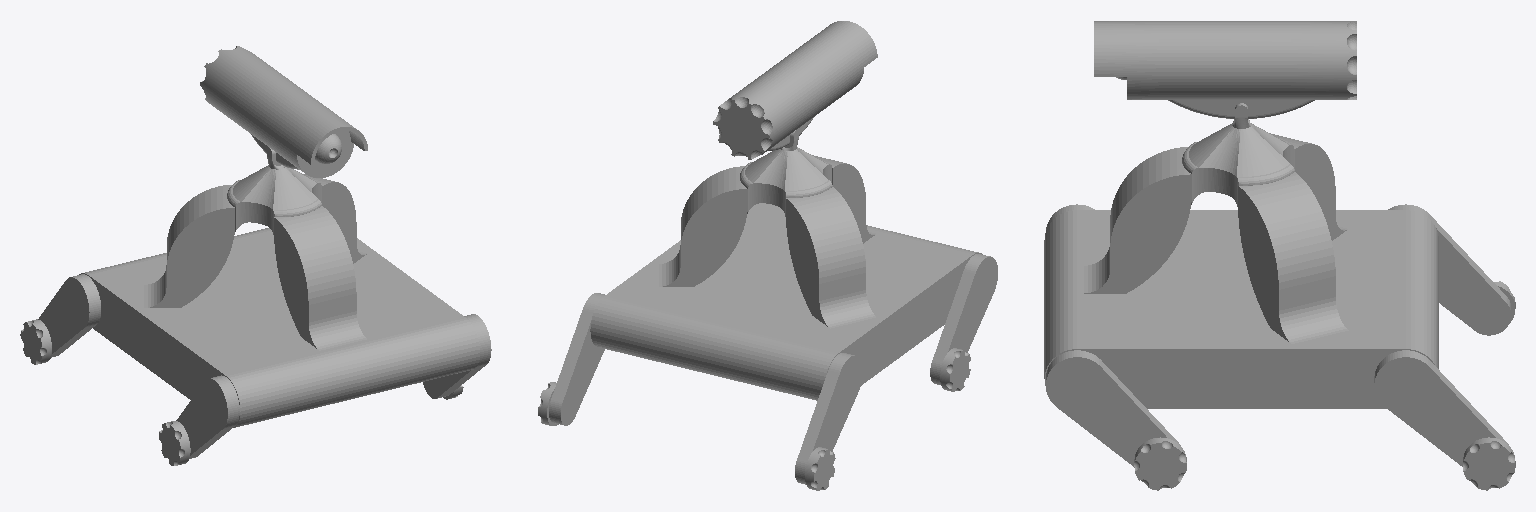
URDF robot description (BLem1):
<?xml version="1.0"?>
<robot name="BLem1">

  <material name="silver">
    <color rgba="0.7 0.7 0.7 1"/>
  </material>

  <link name="base_link">
    <inertial>
      <origin xyz="0.25 0 0.0301" rpy="0 0 0"/>
      <mass value="22"/>
      <inertia ixx="0.6650" iyy="0.5350" izz="0.9570" ixy="0" iyz="0" ixz="0"/>
    </inertial>
    <visual>
      <origin xyz="0 0 0" rpy="0 0 0"/>
      <geometry>
        <mesh filename="../meshes/base_link.stl" scale="0.001 0.001 0.001"/>
      </geometry>
      <material name="silver"/>
    </visual>
    <collision>
      <origin xyz="0 0 0" rpy="0 0 0"/>
      <geometry>
        <mesh filename="../meshes/base_link.stl" scale="0.001 0.001 0.001"/>
      </geometry>
    </collision>
  </link>

  <link name="neck">
    <inertial>
      <origin xyz="0 0 0.0158" rpy="0 0 0"/>
      <mass value="0.2"/>
      <inertia ixx="0.00003" iyy="0.00005" izz="0.00003" ixy="0" iyz="0" ixz="0"/>
    </inertial>
    <visual>
      <origin xyz="-0.25 0 -0.31" rpy="0 0 0"/>
      <geometry>
        <mesh filename="../meshes/neck.stl" scale="0.001 0.001 0.001"/>
      </geometry>
      <material name="silver"/>
    </visual>
    <collision>
      <origin xyz="-0.25 0 -0.31" rpy="0 0 0"/>
      <geometry>
        <mesh filename="../meshes/neck.stl" scale="0.001 0.001 0.001"/>
      </geometry>
    </collision>
  </link>

  <link name="head">
    <inertial>
      <origin xyz="-0.0080 -0.0070 0.0764" rpy="0 0 0"/>
      <mass value="8"/>
      <inertia ixx="0.0930" iyy="0.0150" izz="0.0920" ixy="0" iyz="0.0010" ixz="0"/>
    </inertial>
    <visual>
      <origin xyz="-0.258 0 -0.34" rpy="0 0 0"/>
      <geometry>
        <mesh filename="../meshes/head.stl" scale="0.001 0.001 0.001"/>
      </geometry>
      <material name="silver"/>
    </visual>
    <collision>
      <origin xyz="-0.258 0 -0.34" rpy="0 0 0"/>
      <geometry>
        <mesh filename="../meshes/head.stl" scale="0.001 0.001 0.001"/>
      </geometry>
    </collision>
  </link>

  <link name="leg1">
    <inertial>
      <origin xyz="-0.0125 0.0532 -0.0532" rpy="0 0 0"/>
      <mass value="5"/>
      <inertia ixx="0.0274" iyy="0.0140" izz="0.0140" ixy="0" iyz="0.0109" ixz="0"/>
    </inertial>
    <visual>
      <origin xyz="0 0.25 0" rpy="0 0 0"/>
      <geometry>
        <mesh filename="../meshes/leg1.stl" scale="0.001 0.001 0.001"/>
      </geometry>
      <material name="silver"/>
    </visual>
    <collision>
      <origin xyz="0 0.25 0" rpy="0 0 0"/>
      <geometry>
        <mesh filename="../meshes/leg1.stl" scale="0.001 0.001 0.001"/>
      </geometry>
    </collision>
  </link>

  <link name="leg2">
    <inertial>
      <origin xyz="0.0125 0.0532 -0.0532" rpy="0 0 0"/>
      <mass value="5"/>
      <inertia ixx="0.0274" iyy="0.0140" izz="0.0140" ixy="0" iyz="0.0109" ixz="0"/>
    </inertial>
    <visual>
      <origin xyz="-0.5 0.25 0" rpy="0 0 0"/>
      <geometry>
        <mesh filename="../meshes/leg2.stl" scale="0.001 0.001 0.001"/>
      </geometry>
      <material name="silver"/>
    </visual>
    <collision>
      <origin xyz="-0.5 0.25 0" rpy="0 0 0"/>
      <geometry>
        <mesh filename="../meshes/leg2.stl" scale="0.001 0.001 0.001"/>
      </geometry>
    </collision>
  </link>

  <link name="leg3">
    <inertial>
      <origin xyz="-0.0125 0.0532 -0.0532" rpy="0 0 0"/>
      <mass value="5"/>
      <inertia ixx="0.0274" iyy="0.0140" izz="0.0140" ixy="0" iyz="0.0109" ixz="0"/>
    </inertial>
    <visual>
      <origin xyz="0 -0.25 0" rpy="0 0 0"/>
      <geometry>
        <mesh filename="../meshes/leg3.stl" scale="0.001 0.001 0.001"/>
      </geometry>
      <material name="silver"/>
    </visual>
    <collision>
      <origin xyz="0 -0.25 0" rpy="0 0 0"/>
      <geometry>
        <mesh filename="../meshes/leg3.stl" scale="0.001 0.001 0.001"/>
      </geometry>
    </collision>
  </link>

  <link name="leg4">
    <inertial>
      <origin xyz="0.0125 0.0532 -0.0532" rpy="0 0 0"/>
      <mass value="5"/>
      <inertia ixx="0.0274" iyy="0.0140" izz="0.0140" ixy="0" iyz="0.0109" ixz="0"/>
    </inertial>
    <visual>
      <origin xyz="-0.5 -0.25 0" rpy="0 0 0"/>
      <geometry>
        <mesh filename="../meshes/leg4.stl" scale="0.001 0.001 0.001"/>
      </geometry>
      <material name="silver"/>
    </visual>
    <collision>
      <origin xyz="-0.5 -0.25 0" rpy="0 0 0"/>
      <geometry>
        <mesh filename="../meshes/leg4.stl" scale="0.001 0.001 0.001"/>
      </geometry>
    </collision>
  </link>

  <link name="wheel1">
    <inertial>
      <origin xyz="-0.0096 0 0" rpy="0 0 0"/>
      <mass value="1"/>
      <inertia ixx="0.0008" iyy="0.0004" izz="0.0004" ixy="0" iyz="0" ixz="0"/>
    </inertial>
    <visual>
      <origin xyz="0.025 0.1232 0.1268" rpy="0 0 0"/>
      <geometry>
        <mesh filename="../meshes/wheel1.stl" scale="0.001 0.001 0.001"/>
      </geometry>
      <material name="silver"/>
    </visual>
    <collision>
      <origin xyz="0.025 0.1232 0.1268" rpy="0 0 0"/>
      <geometry>
        <mesh filename="../meshes/wheel1.stl" scale="0.001 0.001 0.001"/>
      </geometry>
    </collision>
  </link>

  <link name="wheel2">
    <inertial>
      <origin xyz="0.0096 0 0" rpy="0 0 0"/>
      <mass value="1"/>
      <inertia ixx="0.0008" iyy="0.0004" izz="0.0004" ixy="0" iyz="0" ixz="0"/>
    </inertial>
    <visual>
      <origin xyz="-0.525 0.1232 0.1268" rpy="0 0 0"/>
      <geometry>
        <mesh filename="../meshes/wheel2.stl" scale="0.001 0.001 0.001"/>
      </geometry>
      <material name="silver"/>
    </visual>
    <collision>
      <origin xyz="-0.525 0.1232 0.1268" rpy="0 0 0"/>
      <geometry>
        <mesh filename="../meshes/wheel2.stl" scale="0.001 0.001 0.001"/>
      </geometry>
    </collision>
  </link>

  <link name="wheel3">
    <inertial>
      <origin xyz="-0.0096 0 0" rpy="0 0 0"/>
      <mass value="1"/>
      <inertia ixx="0.0008" iyy="0.0004" izz="0.0004" ixy="0" iyz="0" ixz="0"/>
    </inertial>
    <visual>
      <origin xyz="0.025 -0.3768 0.1268" rpy="0 0 0"/>
      <geometry>
        <mesh filename="../meshes/wheel3.stl" scale="0.001 0.001 0.001"/>
      </geometry>
      <material name="silver"/>
    </visual>
    <collision>
      <origin xyz="0.025 -0.3768 0.1268" rpy="0 0 0"/>
      <geometry>
        <mesh filename="../meshes/wheel3.stl" scale="0.001 0.001 0.001"/>
      </geometry>
    </collision>
  </link>

  <link name="wheel4">
    <inertial>
      <origin xyz="0.0096 0 0" rpy="0 0 0"/>
      <mass value="1"/>
      <inertia ixx="0.0008" iyy="0.0004" izz="0.0004" ixy="0" iyz="0" ixz="0"/>
    </inertial>
    <visual>
      <origin xyz="-0.525 -0.3768 0.1268" rpy="0 0 0"/>
      <geometry>
        <mesh filename="../meshes/wheel4.stl" scale="0.001 0.001 0.001"/>
      </geometry>
      <material name="silver"/>
    </visual>
    <collision>
      <origin xyz="-0.525 -0.3768 0.1268" rpy="0 0 0"/>
      <geometry>
        <mesh filename="../meshes/wheel4.stl" scale="0.001 0.001 0.001"/>
      </geometry>
    </collision>
  </link>

  <joint name="neck_yaw" type="continuous">
    <origin xyz="0.25 0 0.31" rpy="0 0 0"/>
    <parent link="base_link"/>
    <child link="neck"/>
    <axis xyz="0 0 1"/>
  </joint>

  <joint name="head_pitch" type="revolute">
    <origin xyz="0.008 0 0.03" rpy="0 0 0"/>
    <parent link="neck"/>
    <child link="head"/>
    <axis xyz="-1 0 0"/>
    <limit lower="-0.5" upper="0.5" effort="100" velocity="100"/>
  </joint>

  <joint name="front_right_leg" type="continuous">
    <origin xyz="0.5 -0.25 0" rpy="0 0 0"/>
    <parent link="base_link"/>
    <child link="leg2"/>
    <axis xyz="1 0 0"/>
  </joint>

  <joint name="front_left_leg" type="continuous">
    <origin xyz="0.5 0.25 0" rpy="0 0 0"/>
    <parent link="base_link"/>
    <child link="leg4"/>
    <axis xyz="1 0 0"/>
  </joint>

  <joint name="rear_right_leg" type="continuous">
    <origin xyz="0 -0.25 0" rpy="0 0 0"/>
    <parent link="base_link"/>
    <child link="leg1"/>
    <axis xyz="1 0 0"/>
  </joint>

  <joint name="rear_left_leg" type="continuous">
    <origin xyz="0 0.25 0" rpy="0 0 0"/>
    <parent link="base_link"/>
    <child link="leg3"/>
    <axis xyz="1 0 0"/>
  </joint>

  <joint name="rear_right_wheel" type="continuous">
    <origin xyz="-0.025 0.1268 -0.1268" rpy="0 0 0"/>
    <parent link="leg1"/>
    <child link="wheel1"/>
    <axis xyz="1 0 0"/>
  </joint>

  <joint name="front_right_wheel" type="continuous">
    <origin xyz="0.025 0.1268 -0.1268" rpy="0 0 0"/>
    <parent link="leg2"/>
    <child link="wheel2"/>
    <axis xyz="1 0 0"/>
  </joint>

  <joint name="rear_left_wheel" type="continuous">
    <origin xyz="-0.025 0.1268 -0.1268" rpy="0 0 0"/>
    <parent link="leg3"/>
    <child link="wheel3"/>
    <axis xyz="1 0 0"/>
  </joint>

  <joint name="front_left_wheel" type="continuous">
    <origin xyz="0.025 0.1268 -0.1268" rpy="0 0 0"/>
    <parent link="leg4"/>
    <child link="wheel4"/>
    <axis xyz="1 0 0"/>
  </joint>

</robot>

--- Facts derived from the render (not from the file) ---
The picture shows the robot from 3 angles, left to right: view 1: azimuth 30°, elevation 25°; view 2: azimuth 150°, elevation 25°; view 3: azimuth 270°, elevation 25°; orthographic projection.
Model BLem1 with 11 links and 10 joints (1 revolute, 9 continuous), rooted at base_link, posed all joints at 0.
Links seen in each view (by area): view 1: base_link, head, leg1, leg3, leg2, wheel1, wheel3; view 2: base_link, head, leg3, leg1, leg4, wheel1, wheel3; view 3: base_link, head, leg4, leg2, leg3, wheel4, wheel2.
Boxes of the visible links, x1=… form: base_link: x1=79, y1=165, x2=479, y2=427; head: x1=200, y1=46, x2=367, y2=177; leg1: x1=176, y1=375, x2=239, y2=458; leg3: x1=38, y1=274, x2=100, y2=357; leg2: x1=423, y1=314, x2=491, y2=398; wheel1: x1=159, y1=421, x2=190, y2=465; wheel3: x1=20, y1=319, x2=51, y2=364; base_link: x1=590, y1=147, x2=982, y2=400; head: x1=713, y1=21, x2=877, y2=159; leg3: x1=795, y1=353, x2=862, y2=484; leg1: x1=930, y1=254, x2=997, y2=384; leg4: x1=549, y1=293, x2=604, y2=425; wheel1: x1=940, y1=348, x2=970, y2=391; wheel3: x1=805, y1=447, x2=835, y2=490; base_link: x1=1044, y1=123, x2=1438, y2=408; head: x1=1094, y1=21, x2=1356, y2=118; leg4: x1=1374, y1=350, x2=1508, y2=466; leg2: x1=1046, y1=350, x2=1180, y2=467; leg3: x1=1388, y1=204, x2=1510, y2=335; wheel4: x1=1463, y1=437, x2=1515, y2=490; wheel2: x1=1134, y1=437, x2=1186, y2=490.
Bounding box of the posed robot: 0.59 × 0.7168 × 0.6443 m (x, y, z).
Meshes: 11 distinct files referenced, 11 mesh visuals loaded (11 binary STL).
